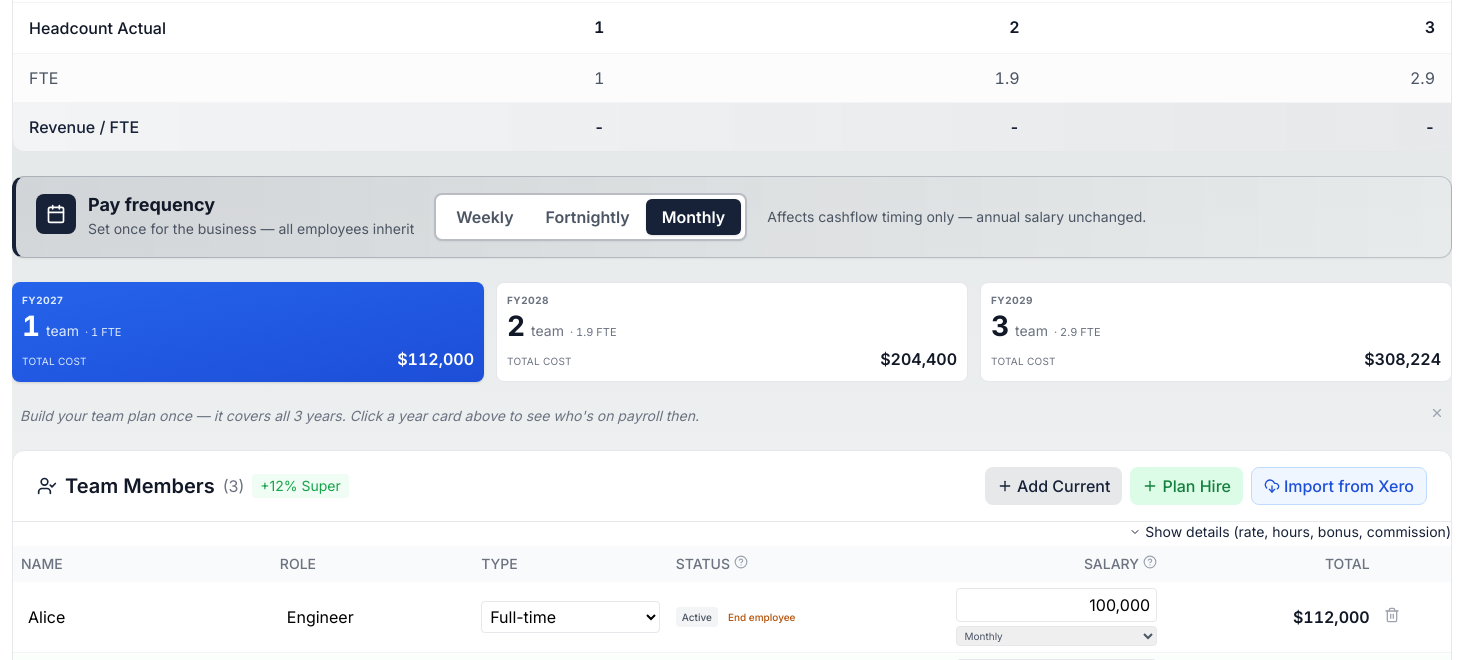
Test: Phase 55-01 — UX-S4-04: Step 4 year-card filter › selecting Y2 hides a Y3 hire and shows a Y2 hire with green Starts badge
This screenshot has width=1464, height=660.
(page scrolled)
Click Y2 card → only Y2 hire (Aug 2027) should remain among TBD rows.
Click the button with test id "year-card-2": click(548, 330) left=496, top=282, right=968, bottom=382
(page scrolled)
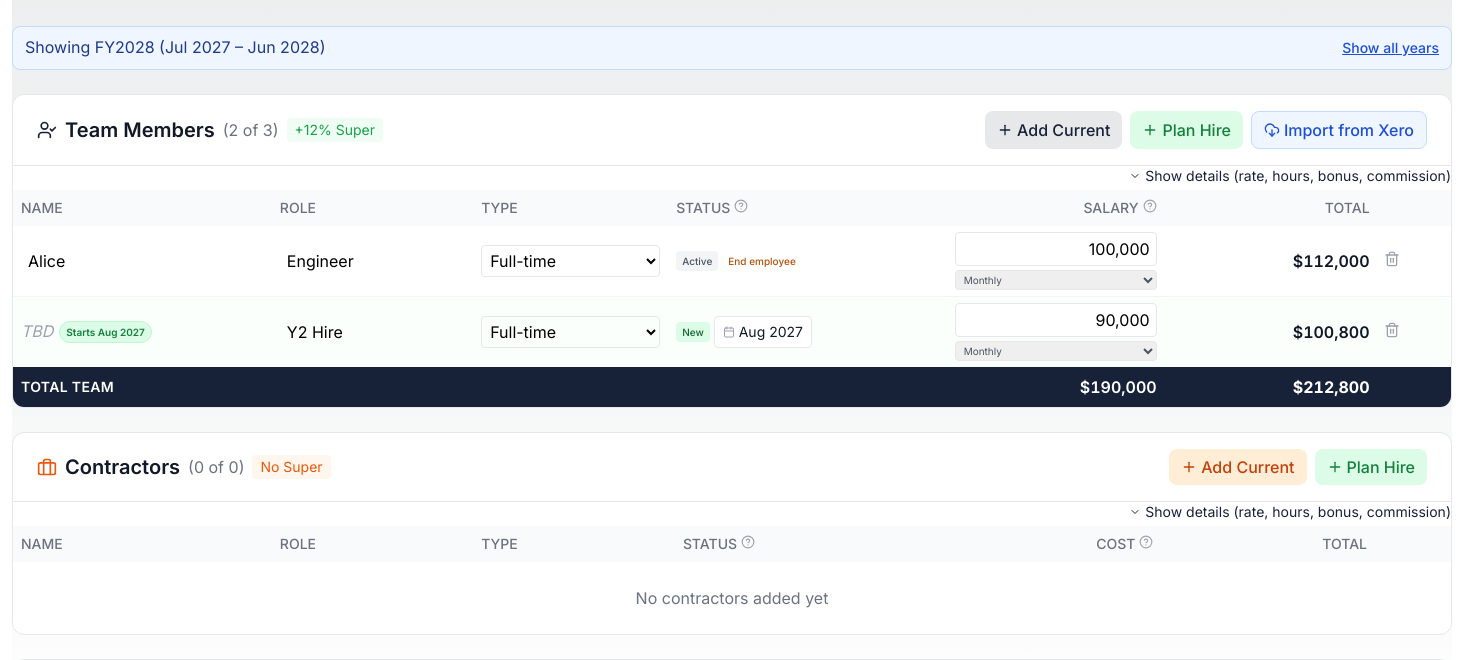
Expected: the number of fields showing "Y2 Hire" is 1, left=280, top=315, right=465, bottom=349
Expected: the text "Starts Aug 2027" is shown, left=59, top=321, right=152, bottom=343
